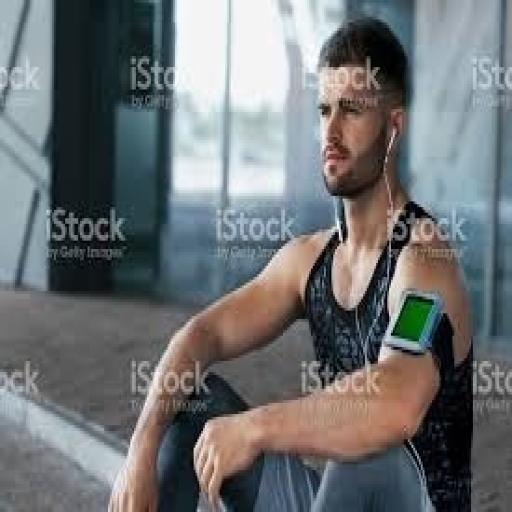listening_to_music: (104, 11, 477, 509)
